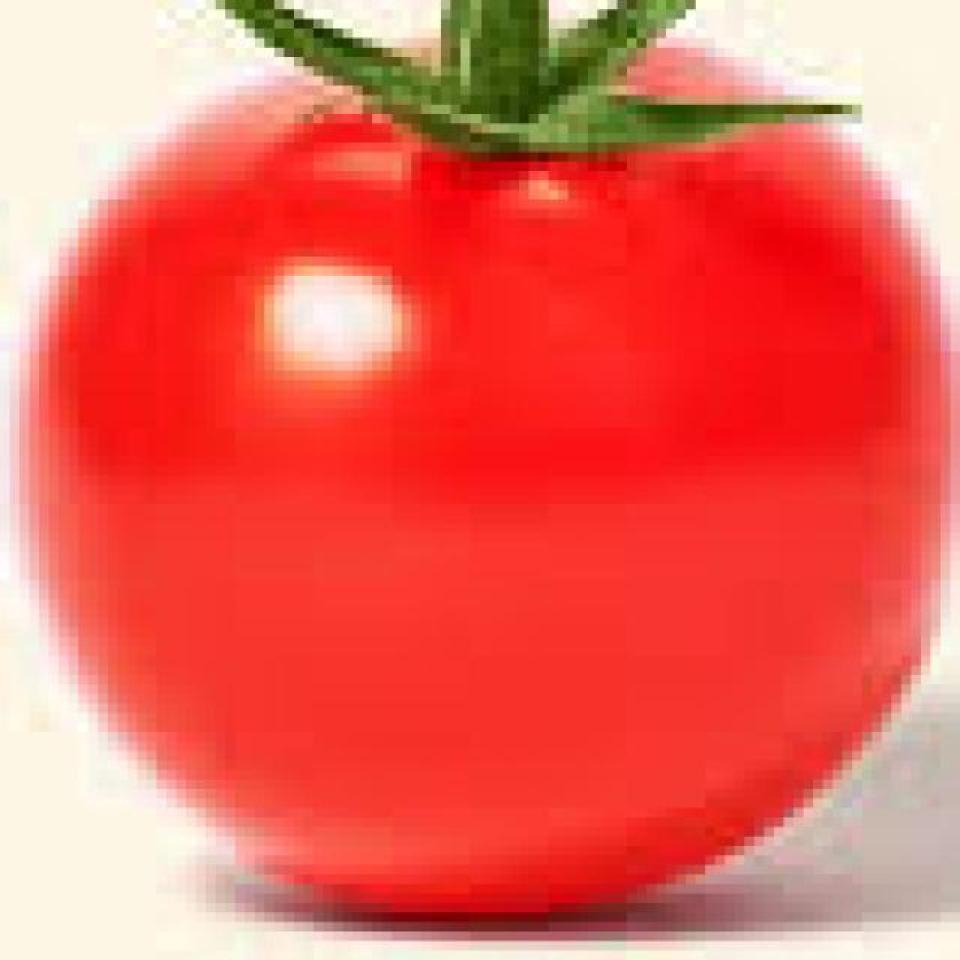Healthy: (26, 55, 960, 920)
